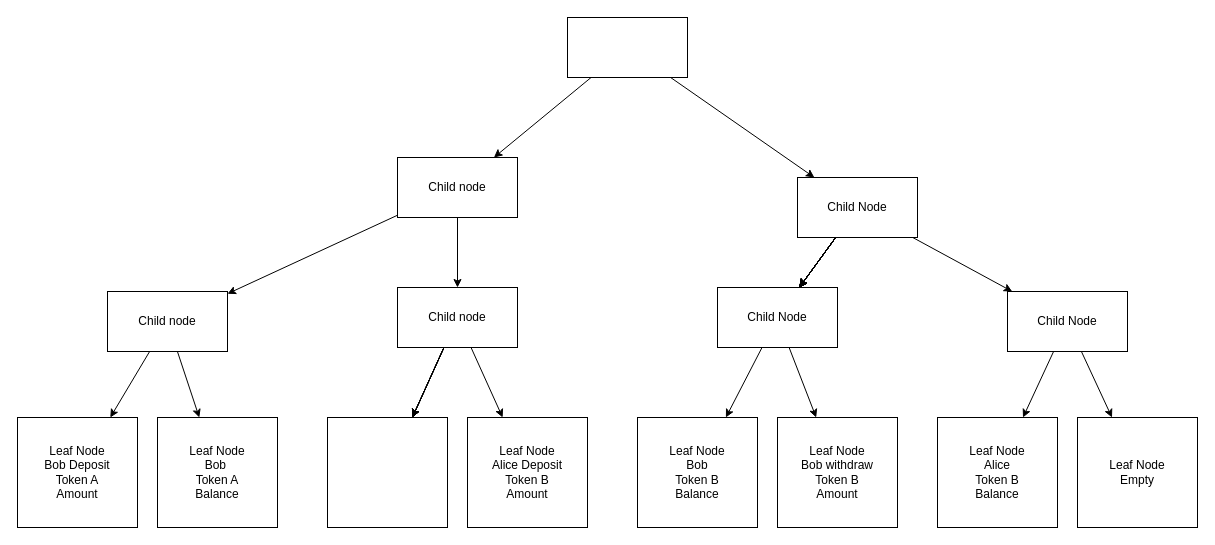
Image size: 1215x545. Some labels were removed from this diagram. Each missing label, with the centre of its shape:
"Leaf Node Pool Reserve A Reserve B Total Liquidity" belongs at point 387,472.
"Root node" belongs at point 627,47.
